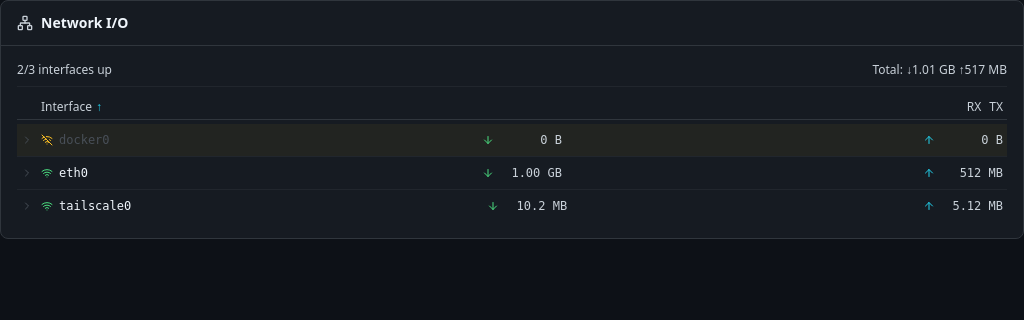
Test: NetworkIOWidget › Expandable details (US0171 AC4) › collapses details when clicked again
Click the button with test id "expand-eth0": (512, 173) x1=17 y1=157 x2=1007 y2=189
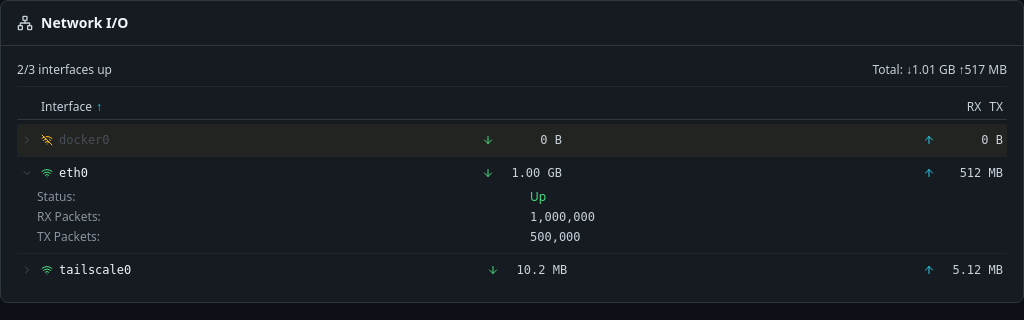
Expected: the element with test id "details-eth0" is shown, x1=37 y1=188 x2=595 y2=245
Click the button with test id "expand-eth0": (512, 173) x1=17 y1=157 x2=1007 y2=189
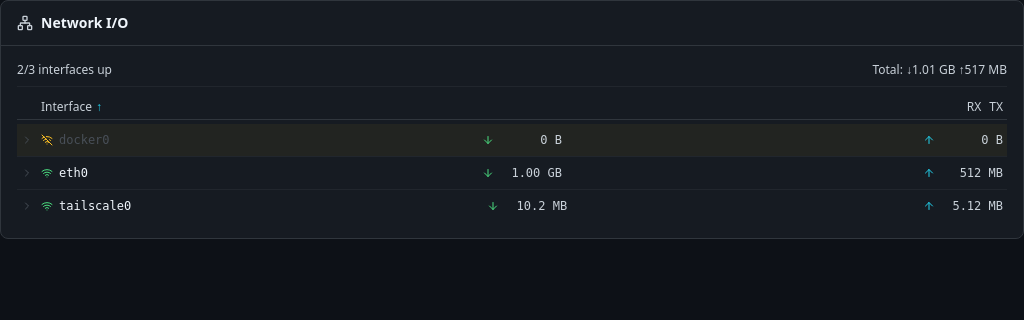
Expected: the element with test id "details-eth0" is gone
